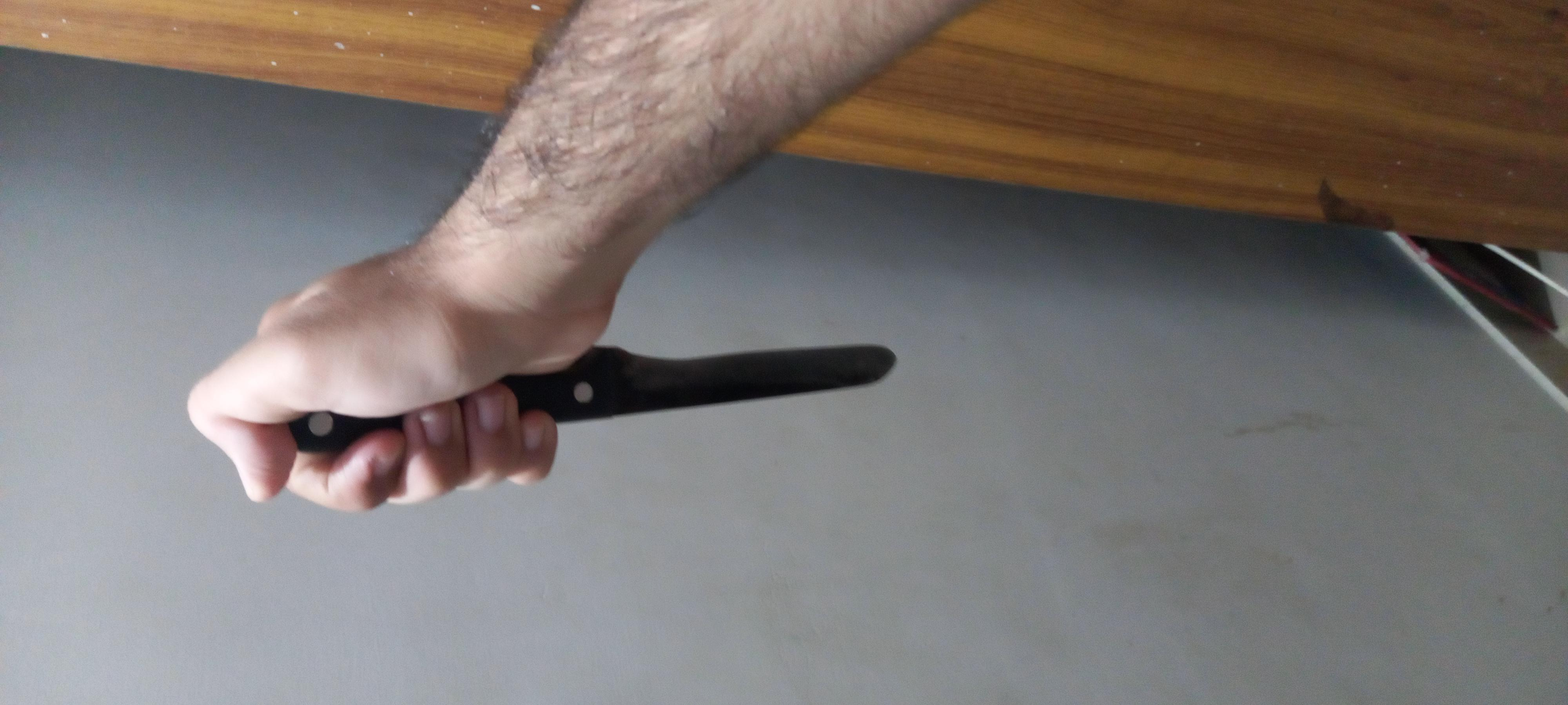knives: (372, 84, 1049, 408), (370, 84, 1047, 408)
